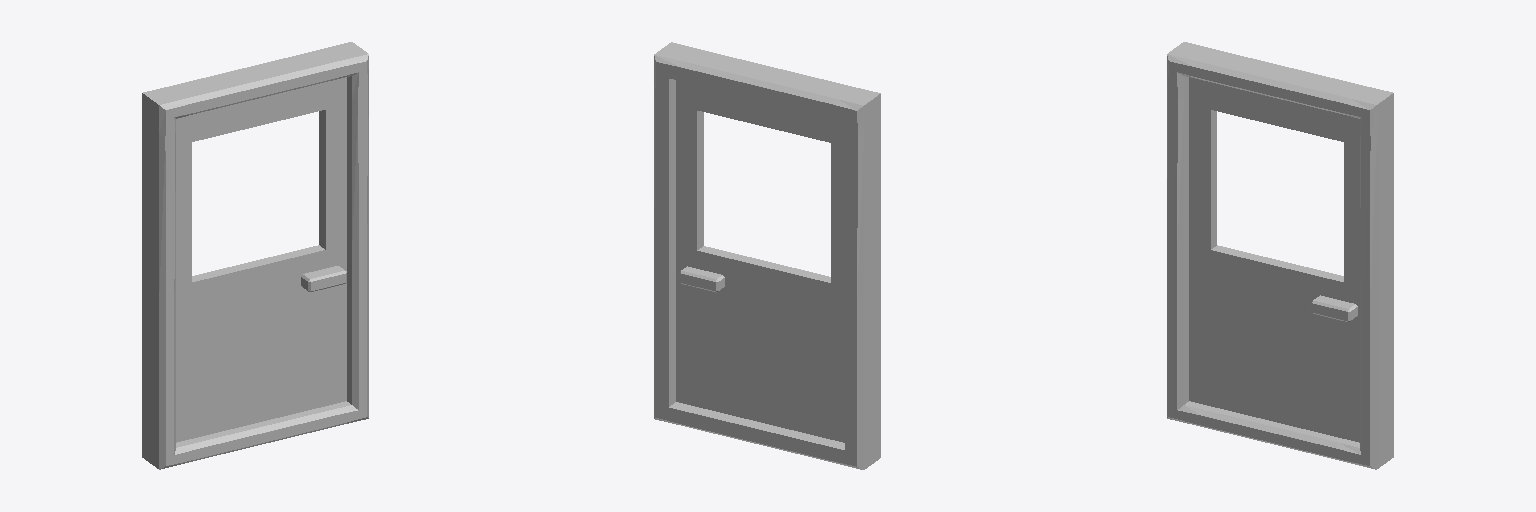
File: door real.obj
3 renders of one model, left to right at view 1: azimuth 30°, elevation 25°; view 2: azimuth 150°, elevation 25°; view 3: azimuth 330°, elevation 25°, orthographic.
Visible parts, largest first — view 1: door_real pCube156, pCube79 door_real; view 2: door_real pCube156, pCube79 door_real; view 3: door_real pCube156, pCube79 door_real.
Part boxes in pixels (bbox=[...]): door_real pCube156: bbox=[176, 77, 346, 442]; pCube79 door_real: bbox=[142, 42, 368, 469]; door_real pCube156: bbox=[676, 80, 844, 442]; pCube79 door_real: bbox=[654, 42, 880, 469]; door_real pCube156: bbox=[1189, 77, 1359, 442]; pCube79 door_real: bbox=[1167, 42, 1393, 469].
Bounding box in the file's own units: 138 × 229 × 25.91.